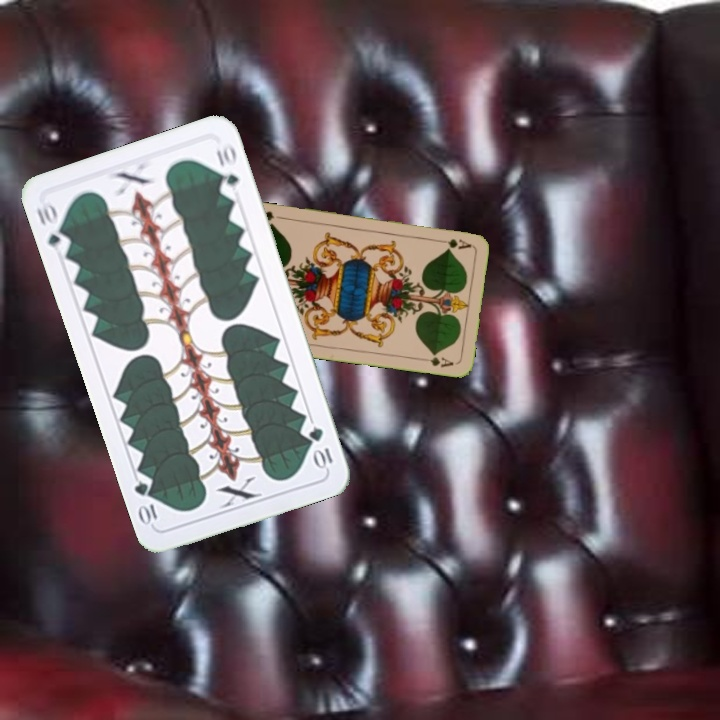G10: (32, 197, 73, 257), (305, 423, 336, 472)
GA: (433, 234, 474, 252)
